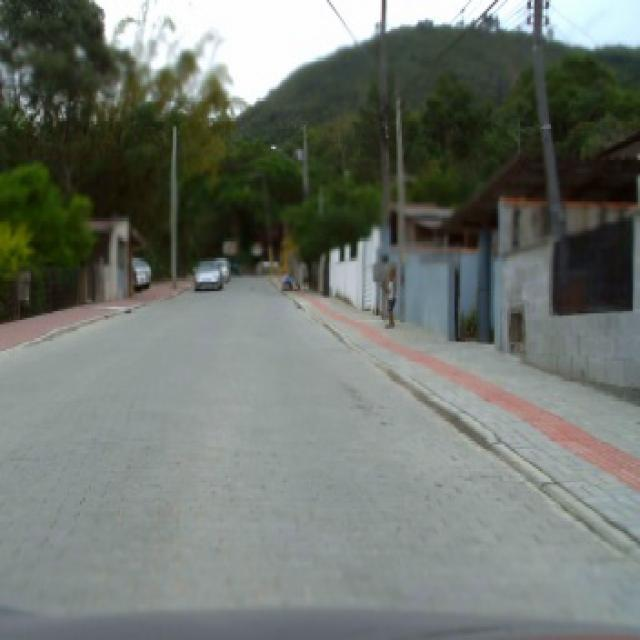Poth-hole: (120, 306, 131, 312)
